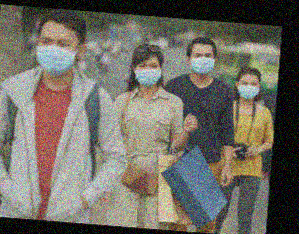with_mask: (36, 36, 79, 78), (134, 61, 161, 87), (190, 51, 214, 76), (237, 79, 260, 100)
